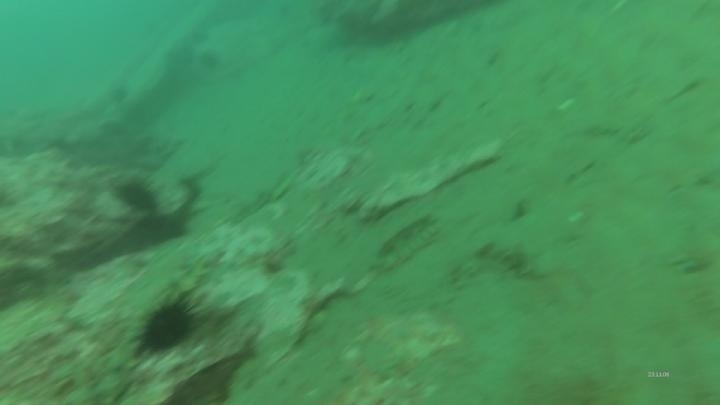echinus: (133, 292, 203, 358), (113, 175, 161, 216)
holothurian: (367, 211, 442, 279), (476, 235, 552, 282)
